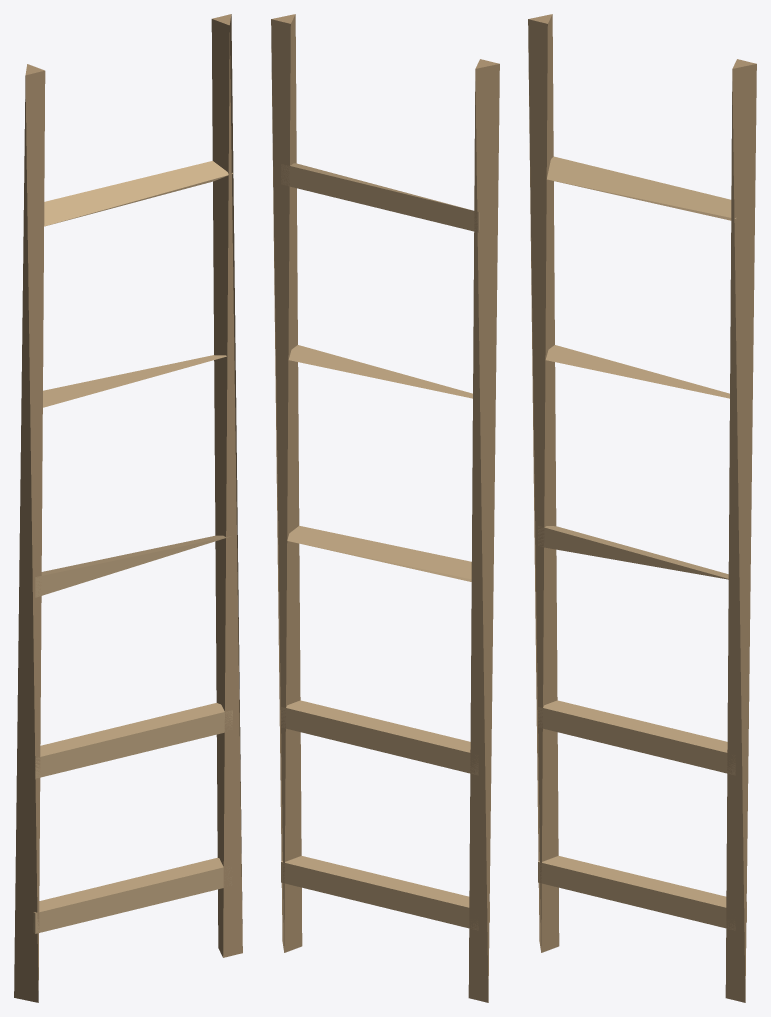
The model's file is 18-Casas_escalera_mano.glb.
3 views of the same model, side by side, from view 1: azimuth 30°, elevation 25°; view 2: azimuth 150°, elevation 25°; view 3: azimuth 330°, elevation 25° (orthographic).
Parts seen in each view (by area): view 1: SM_Escalera_M_Escalera_Larguero, SM_Escalera_M_Escalera_Peldano; view 2: SM_Escalera_M_Escalera_Larguero, SM_Escalera_M_Escalera_Peldano; view 3: SM_Escalera_M_Escalera_Larguero, SM_Escalera_M_Escalera_Peldano.
Boxes of the visible parts, box(x1,y1,x2,y2) form: SM_Escalera_M_Escalera_Larguero: box(14, 14, 242, 1002); SM_Escalera_M_Escalera_Peldano: box(33, 161, 232, 933); SM_Escalera_M_Escalera_Larguero: box(271, 14, 499, 1002); SM_Escalera_M_Escalera_Peldano: box(281, 163, 489, 930); SM_Escalera_M_Escalera_Larguero: box(528, 14, 756, 1002); SM_Escalera_M_Escalera_Peldano: box(538, 156, 746, 930).
Bounding box in the file's own units: 0.44 × 1.8 × 0.04.
